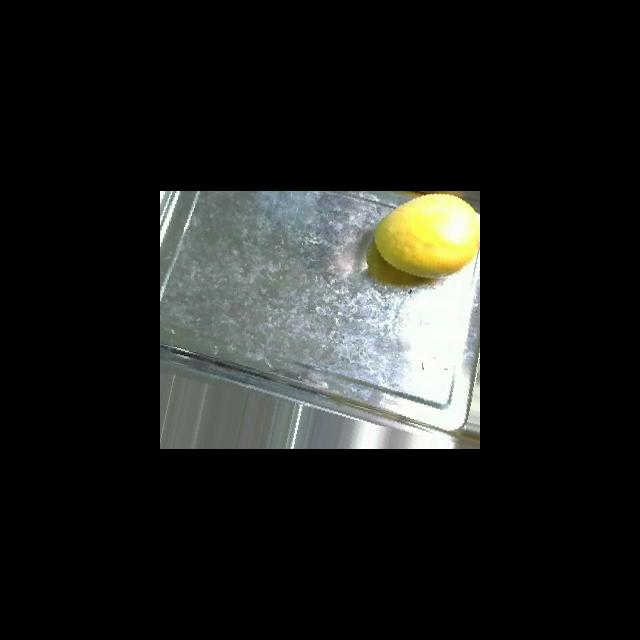Mango: (373, 192, 479, 278)
